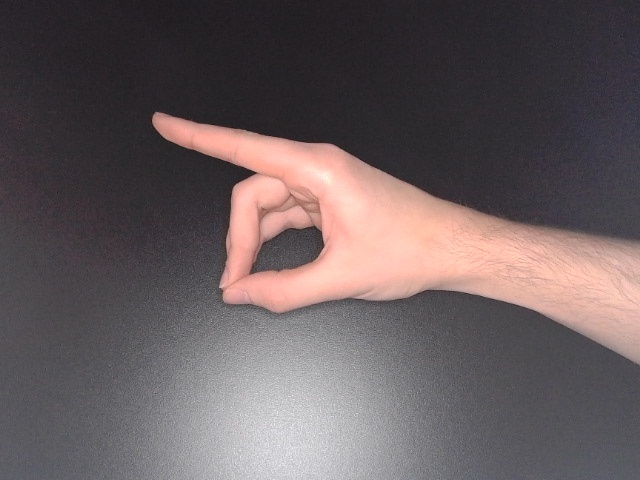p: (146, 109, 503, 318)
